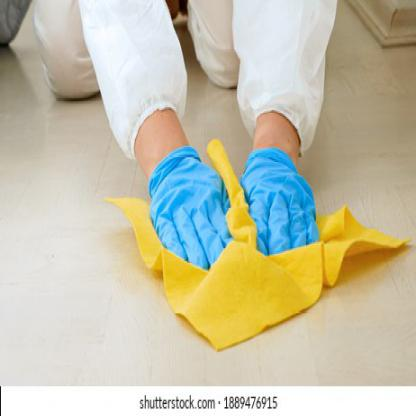with_gloves: (148, 144, 234, 269), (240, 150, 323, 257)
